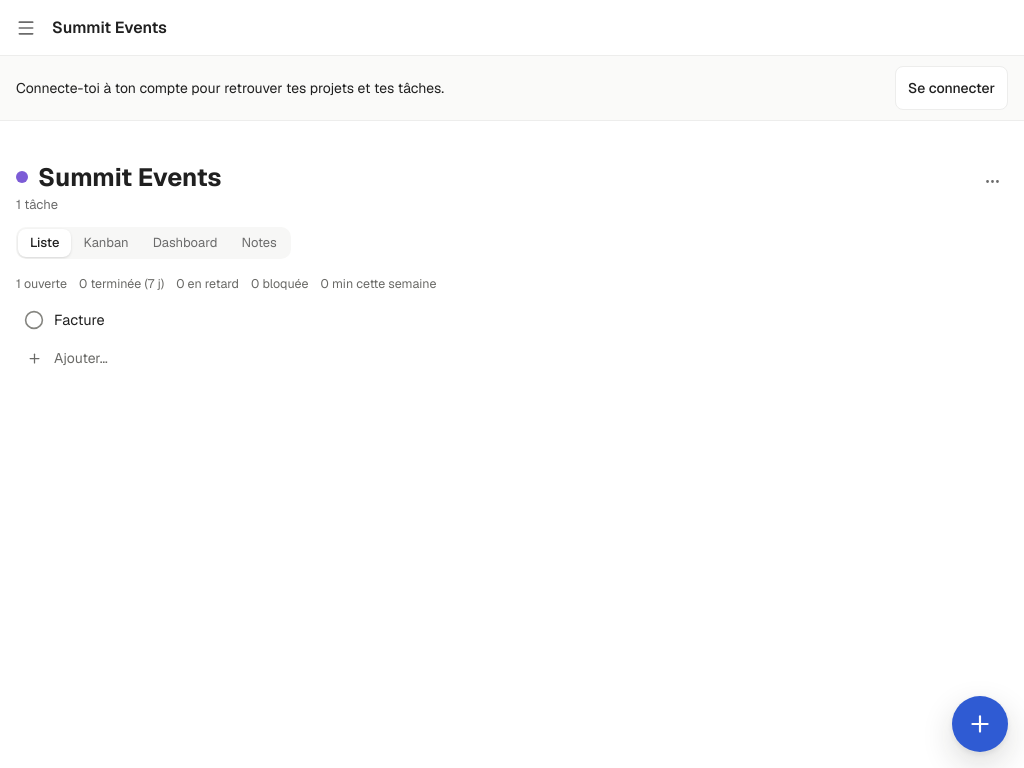
Test: Kanban, Dashboard and Portfolio on the web › says the columns are coming while the first sync has not ended
Click the tab "Kanban" at (106, 242), box [71,228,141,256]
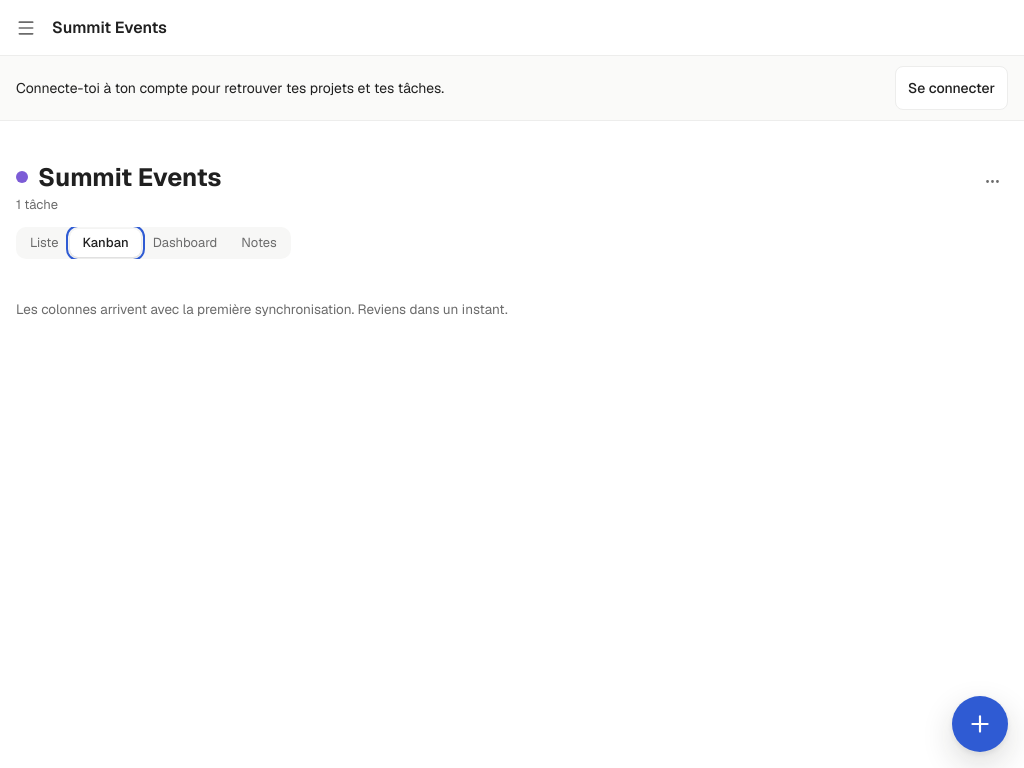
Check: the 2nd message reads "Les colonnes arrivent avec la première synchronisation. Reviens dans un instant.", box [16,300,508,318]
